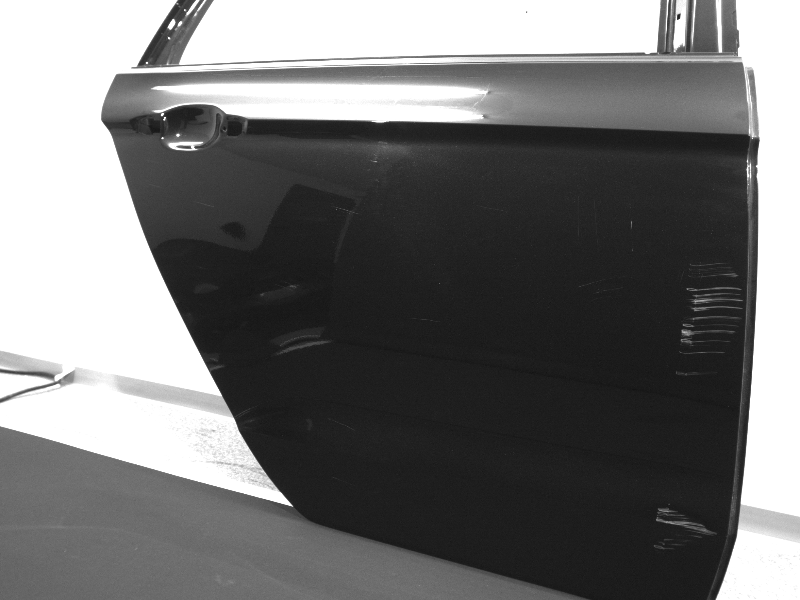scratch: (676, 260, 744, 377), (653, 507, 718, 551), (579, 278, 624, 294), (326, 416, 358, 433), (593, 203, 601, 253), (475, 203, 506, 213), (333, 204, 359, 215), (410, 316, 442, 324), (629, 219, 636, 253), (576, 194, 581, 237), (332, 476, 352, 485), (277, 283, 296, 291), (197, 201, 217, 208), (146, 183, 160, 188)
